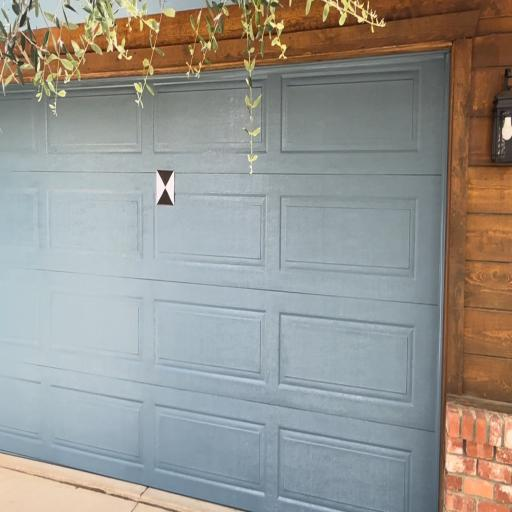target: (156, 169, 175, 206)
